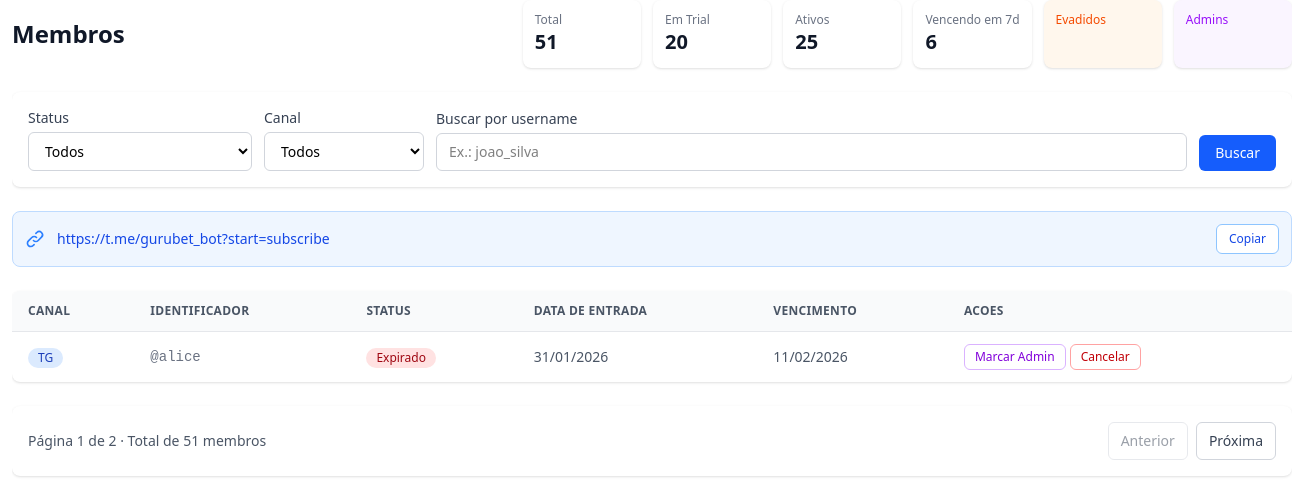
Test: /members page › navega entre páginas na paginação
Expected: the text "@alice" is shown, [150,347,201,367]
Click the button "Próxima". click: (1236, 441)
box: [1196,422,1276,460]
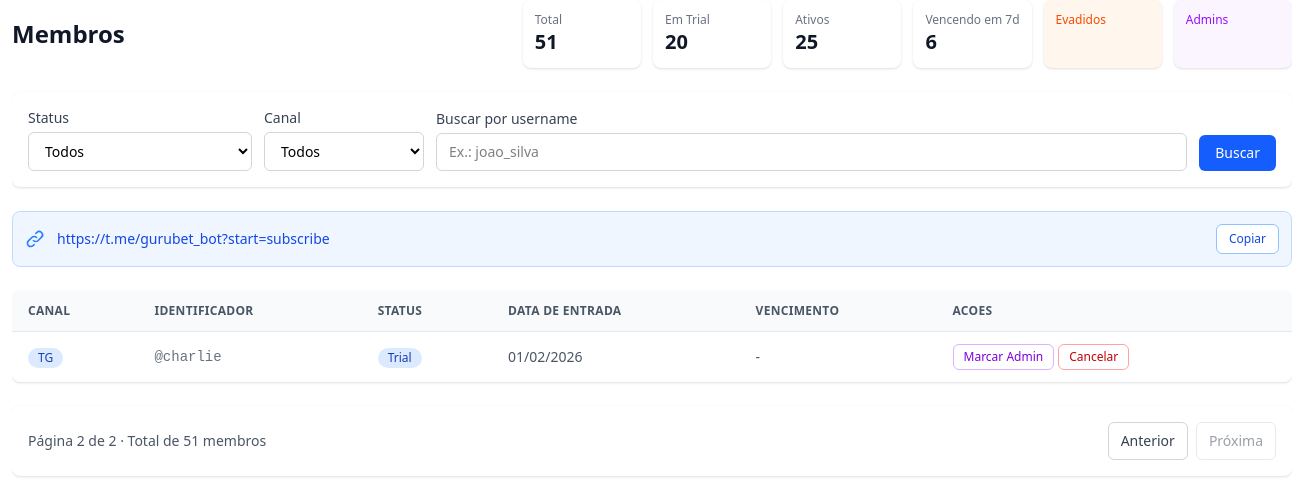
Expected: the text "@charlie" is shown, [154,347,222,367]
